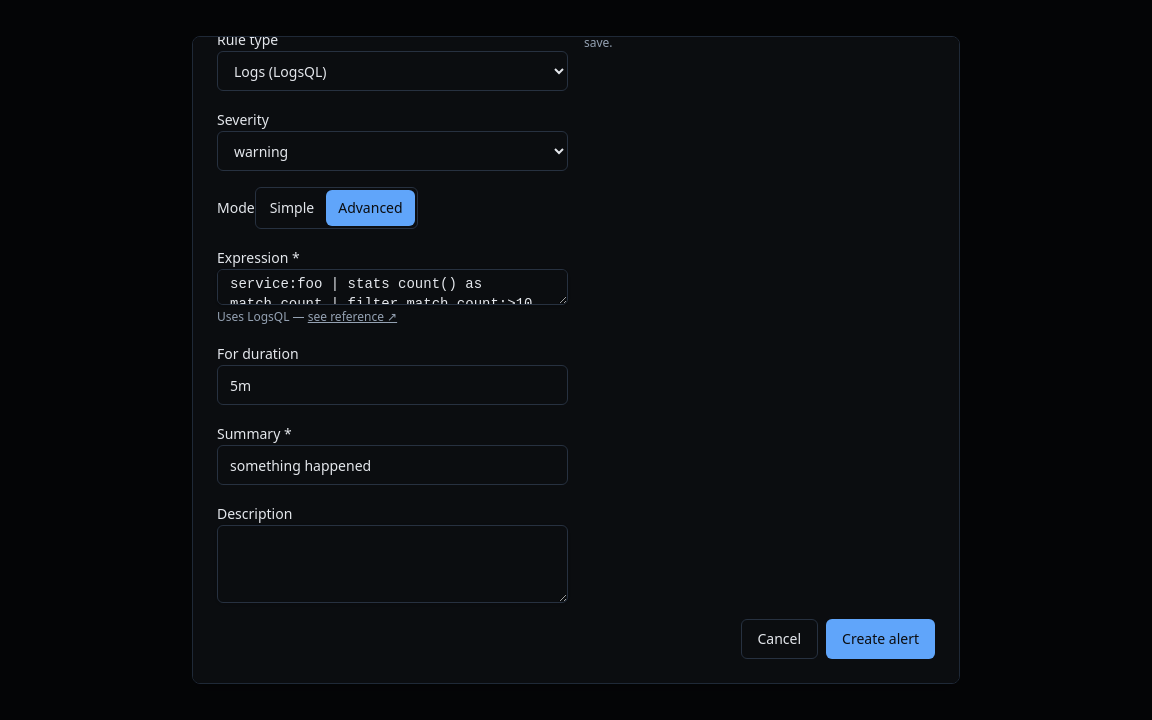
Test: CreateAlertModal › on 400 invalid_expr shows inline expr error and keeps modal open
(page scrolled)
Click the button with test id "create-alert-submit". click: (881, 639)
box: top-left (826, 619), bottom-right (935, 659)
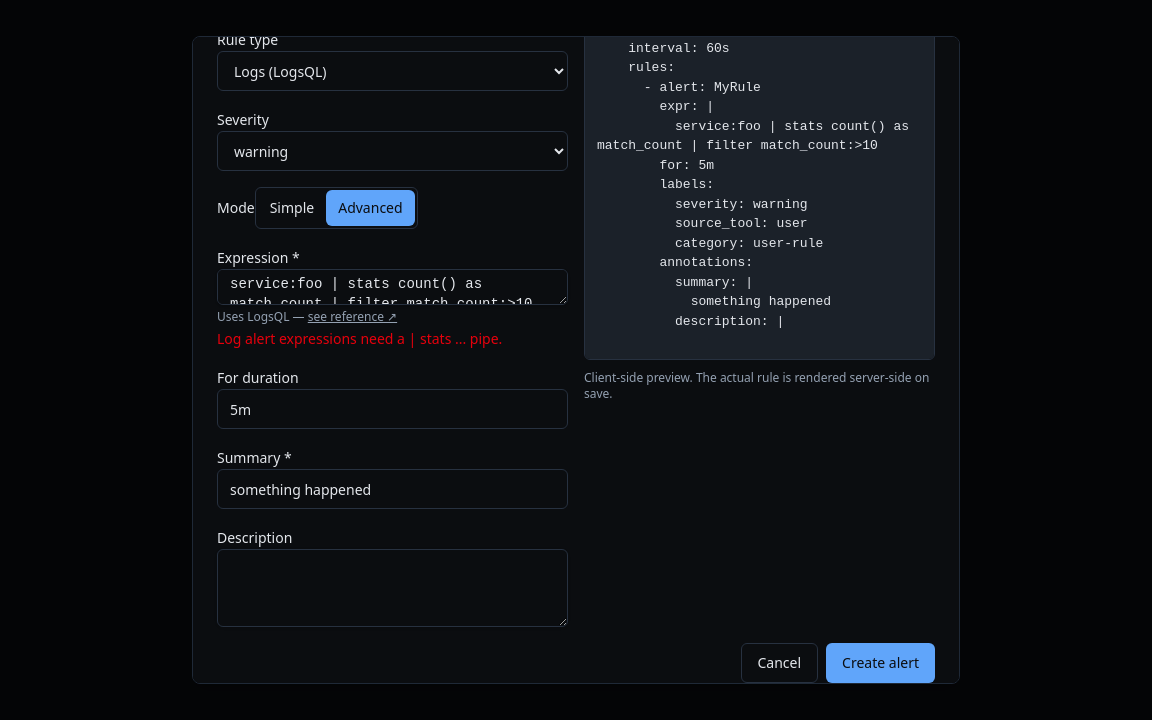
Check: the message with test id "create-alert-expr-error" shows "| stats", box top-left (217, 329), bottom-right (502, 348)
